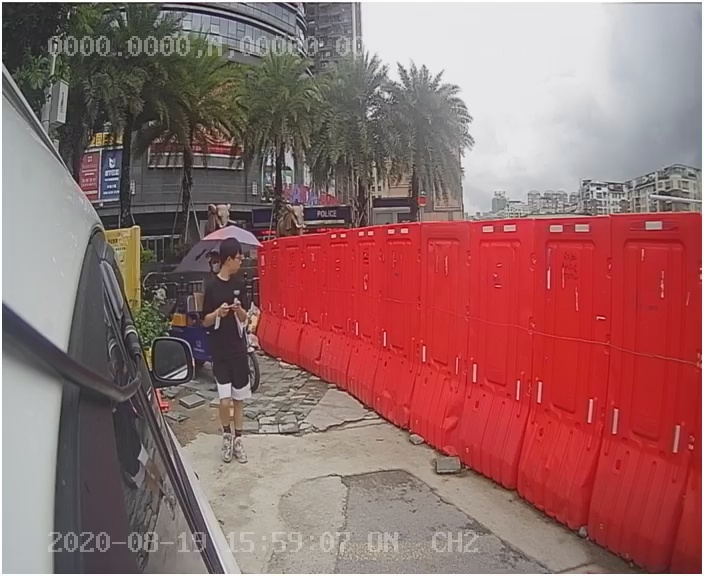person: (191, 237, 280, 465)
